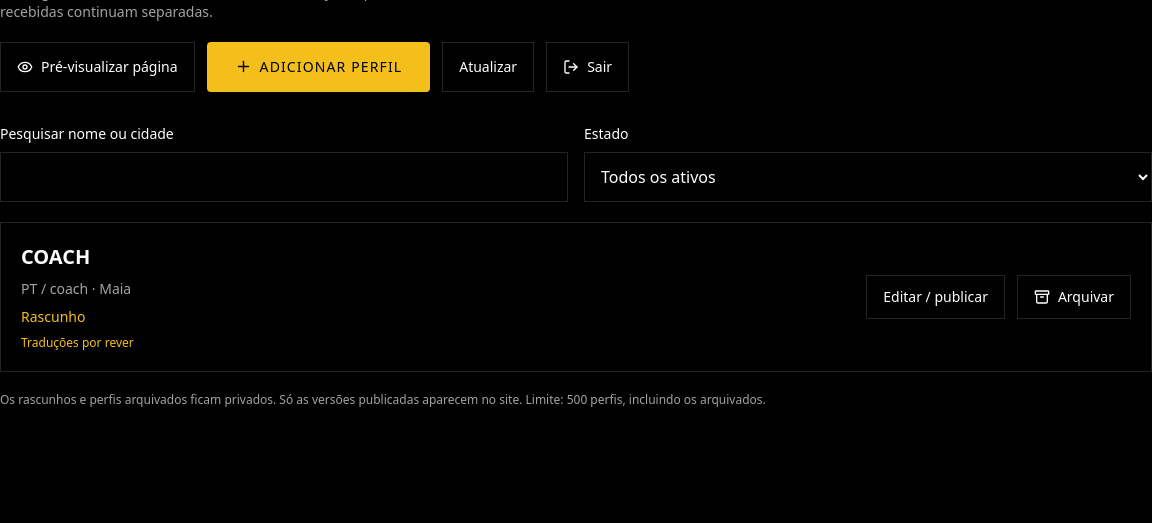
Test case: still saves the original draft if the translation service is unavailable
Click the button "Editar / publicar".
click(936, 297)  # box [866,275,1005,319]
(page scrolled)
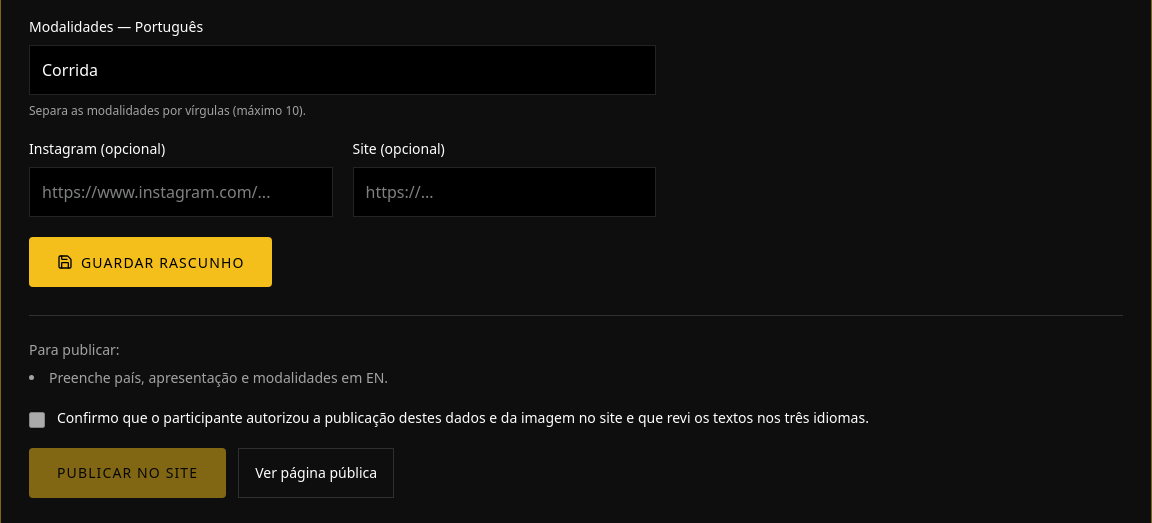
Click the button "Guardar rascunho".
click(151, 262)  # box [29,237,272,287]
(page scrolled)
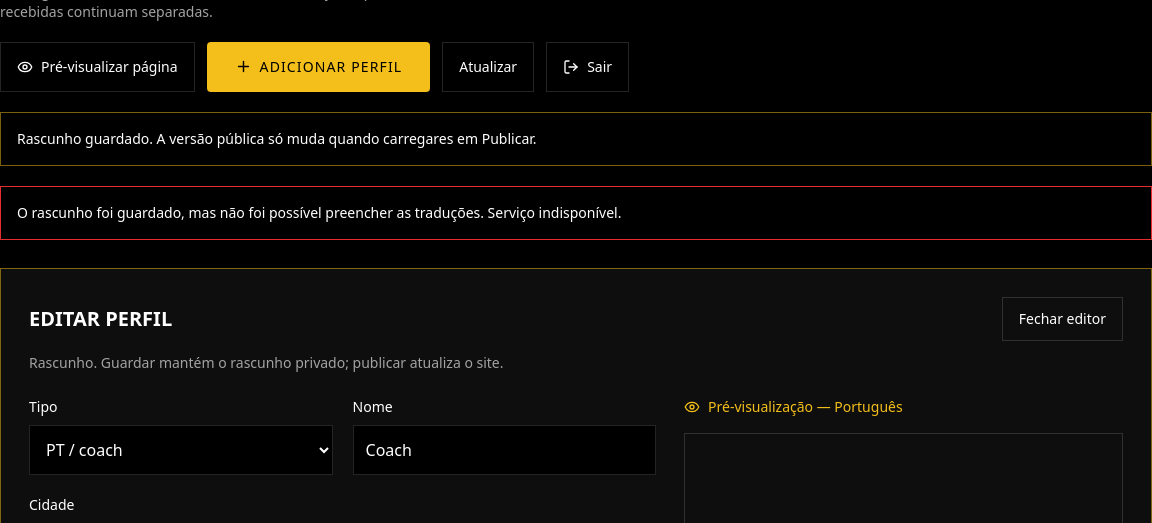
Check: the 2nd message shows "O rascunho foi guardado", box [17,203,622,222]
